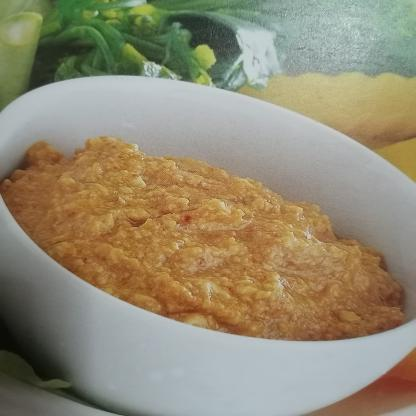Kaithoon: (2, 110, 394, 372)
